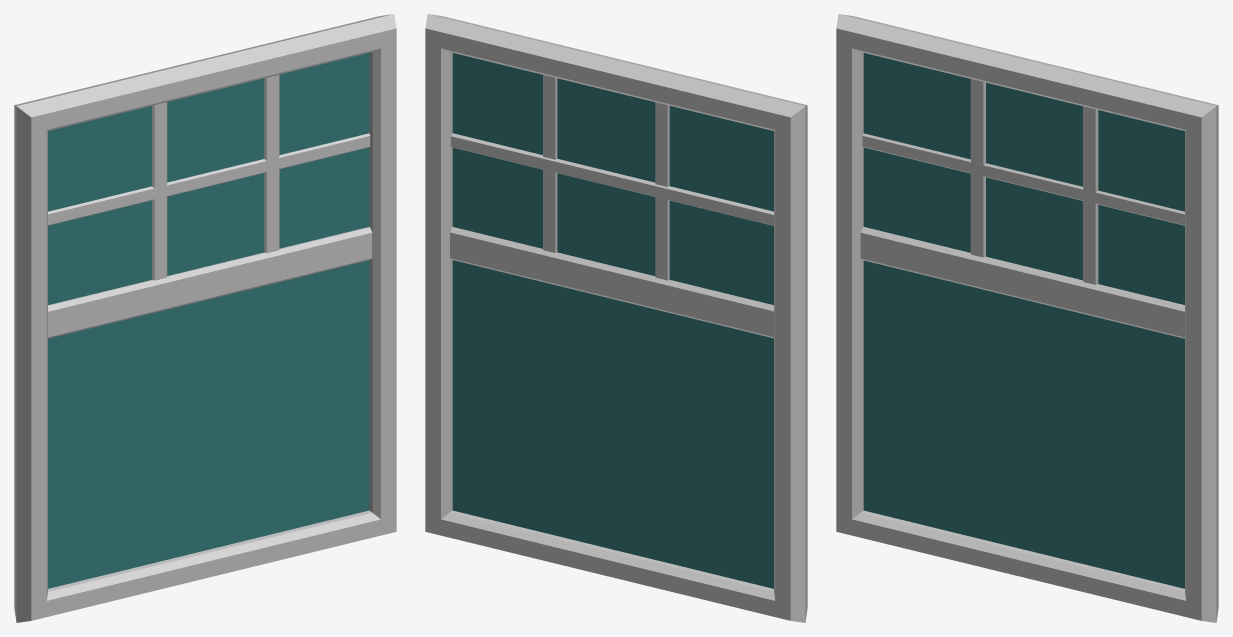
3 renders of one model, left to right at view 1: azimuth 30°, elevation 25°; view 2: azimuth 150°, elevation 25°; view 3: azimuth 330°, elevation 25°, orthographic.
Parts seen in each view (by area): view 1: Window B; view 2: Window B; view 3: Window B.
Part boxes in pixels (box(x1,y1,x2,y2)): Window B: box(14, 14, 396, 622); Window B: box(425, 14, 807, 622); Window B: box(836, 14, 1218, 622).
Bounding box in the file's own units: 5.64 × 7.36 × 0.4349.
